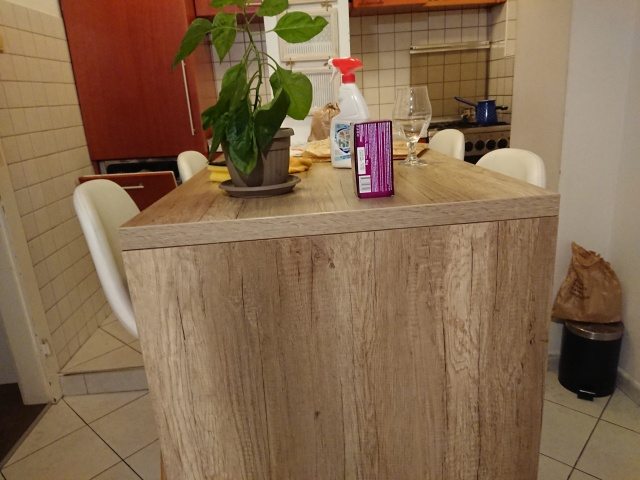Franck Black Currant Tea 60g: (347, 116, 397, 202)
